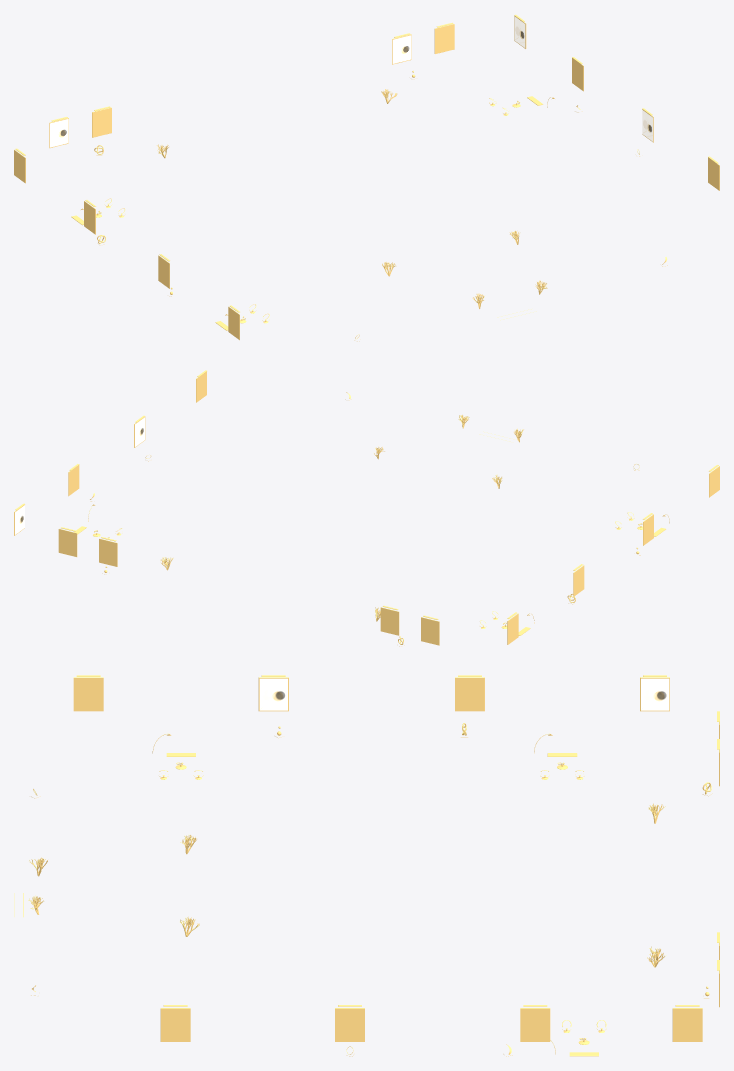
The model's file is tb_decor_p1.glb.
The picture shows the model from 3 angles, top to bottom: view 1: azimuth 30°, elevation 25°; view 2: azimuth 150°, elevation 25°; view 3: azimuth 270°, elevation 25°; orthographic projection. The views are drawn at different scales.
Parts seen in each view (by area): view 1: tb_decor_p1; view 2: tb_decor_p1; view 3: tb_decor_p1.
Boxes of the visible parts, x1=… form: tb_decor_p1: x1=14, y1=14, x2=719, y2=341; tb_decor_p1: x1=14, y1=370, x2=719, y2=646; tb_decor_p1: x1=14, y1=675, x2=719, y2=1056.
Bounding box in the file's own units: 71.92 × 6.53 × 64.81.
4 materials, 1 textured.
